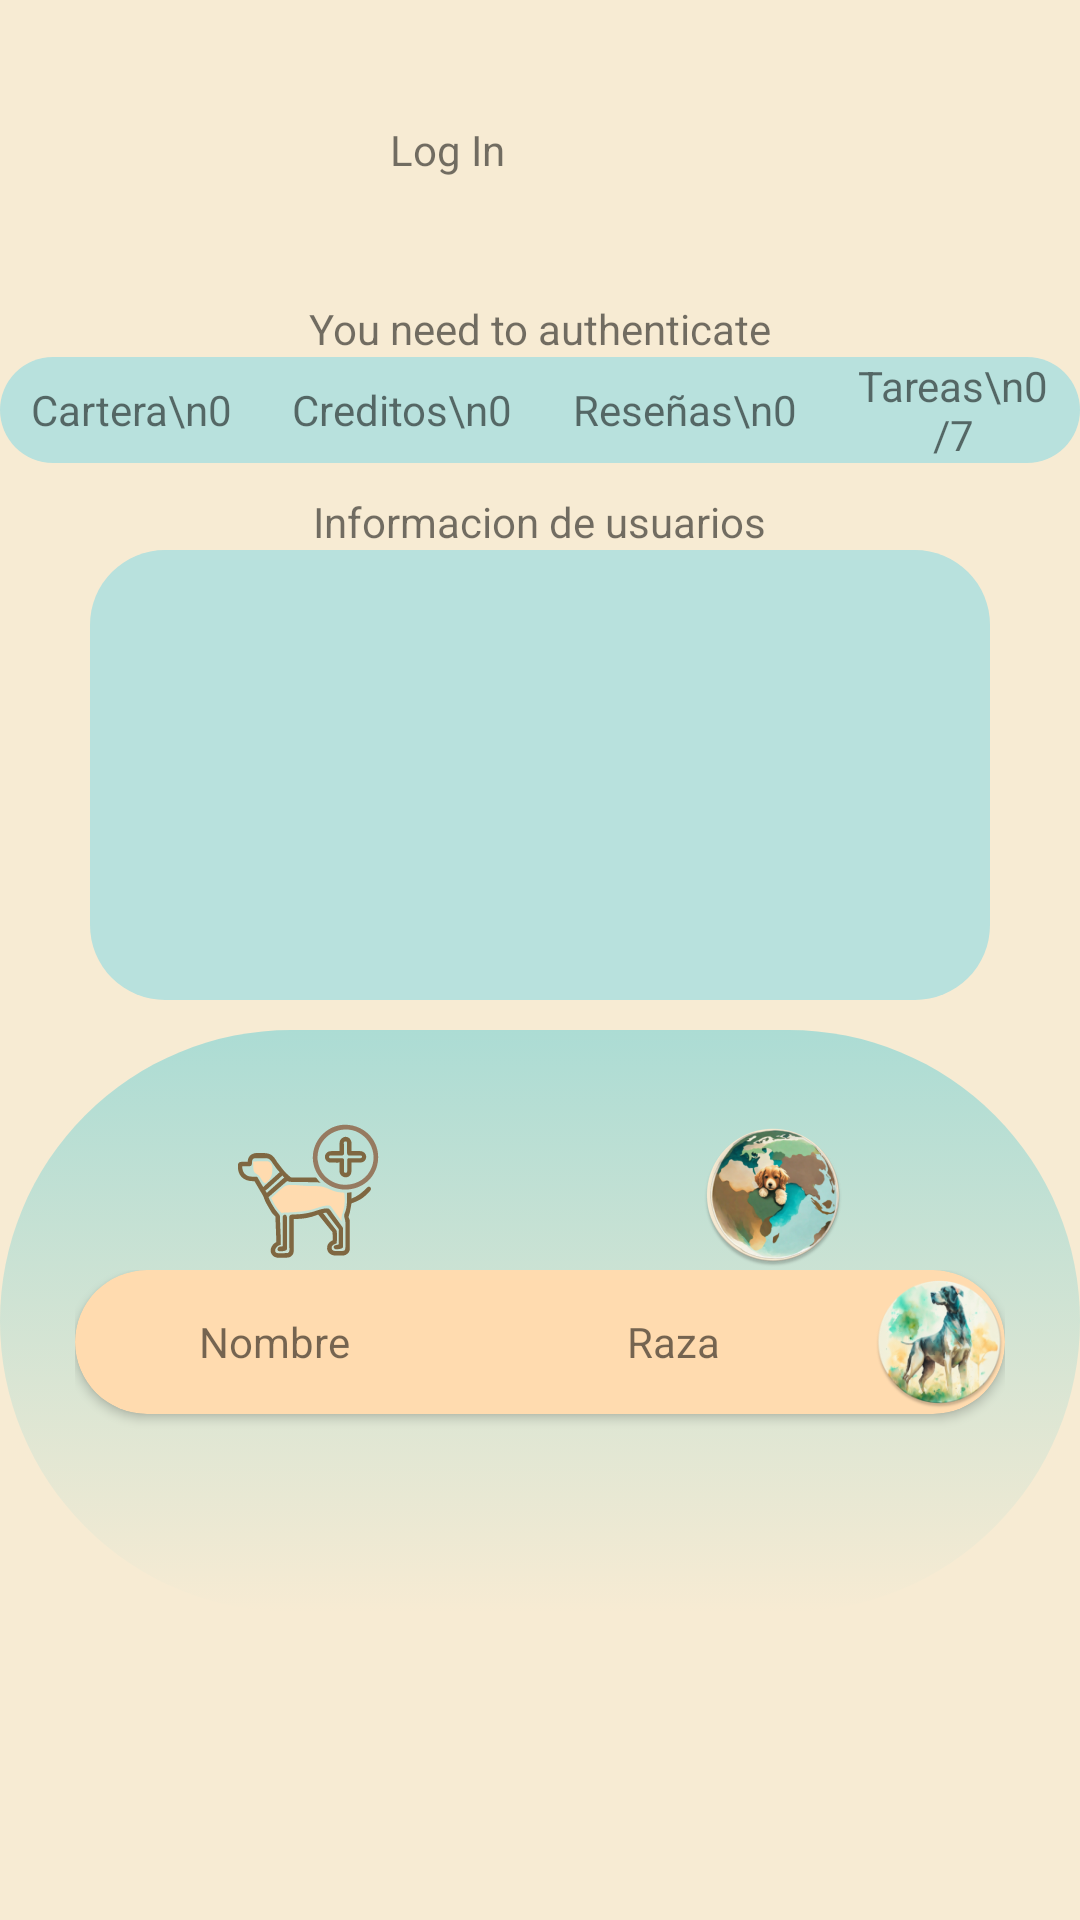

Icon bounding boxes for this 1080 x 1920 phone screenshot, format (x1, y1, x2, y2):
dog example round: (873, 1270, 1005, 1414)
